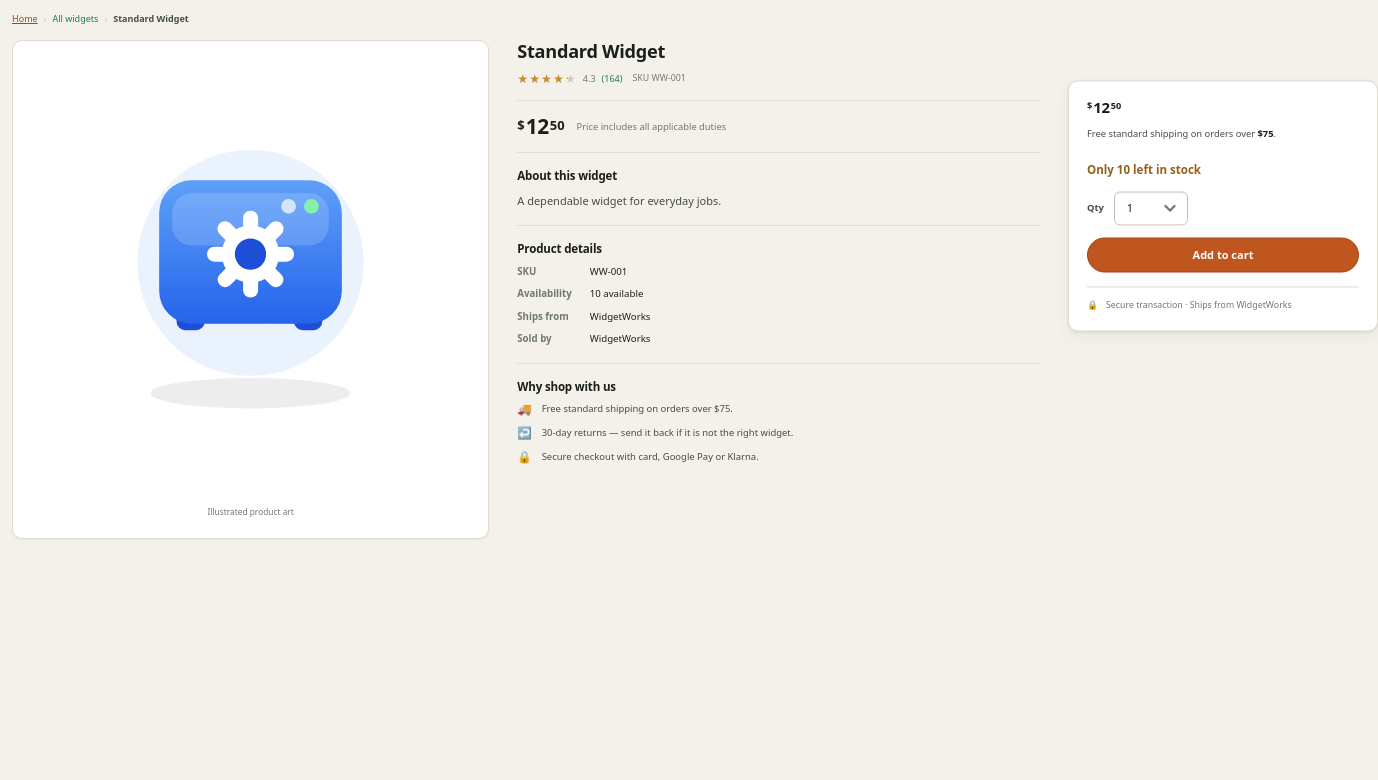
it: ProductPage › recalculates free shipping as the quantity changes
The width and height of the screenshot is (1378, 780).
Check: the heading "Standard Widget" is shown, box top-left (517, 38), bottom-right (665, 62)
Check: the text "Free standard shipping on orders over $75." is shown, box top-left (1087, 128), bottom-right (1276, 141)
Select "6" in the dropdown labelled "Qty" at (1151, 208), box top-left (1114, 191), bottom-right (1188, 226)
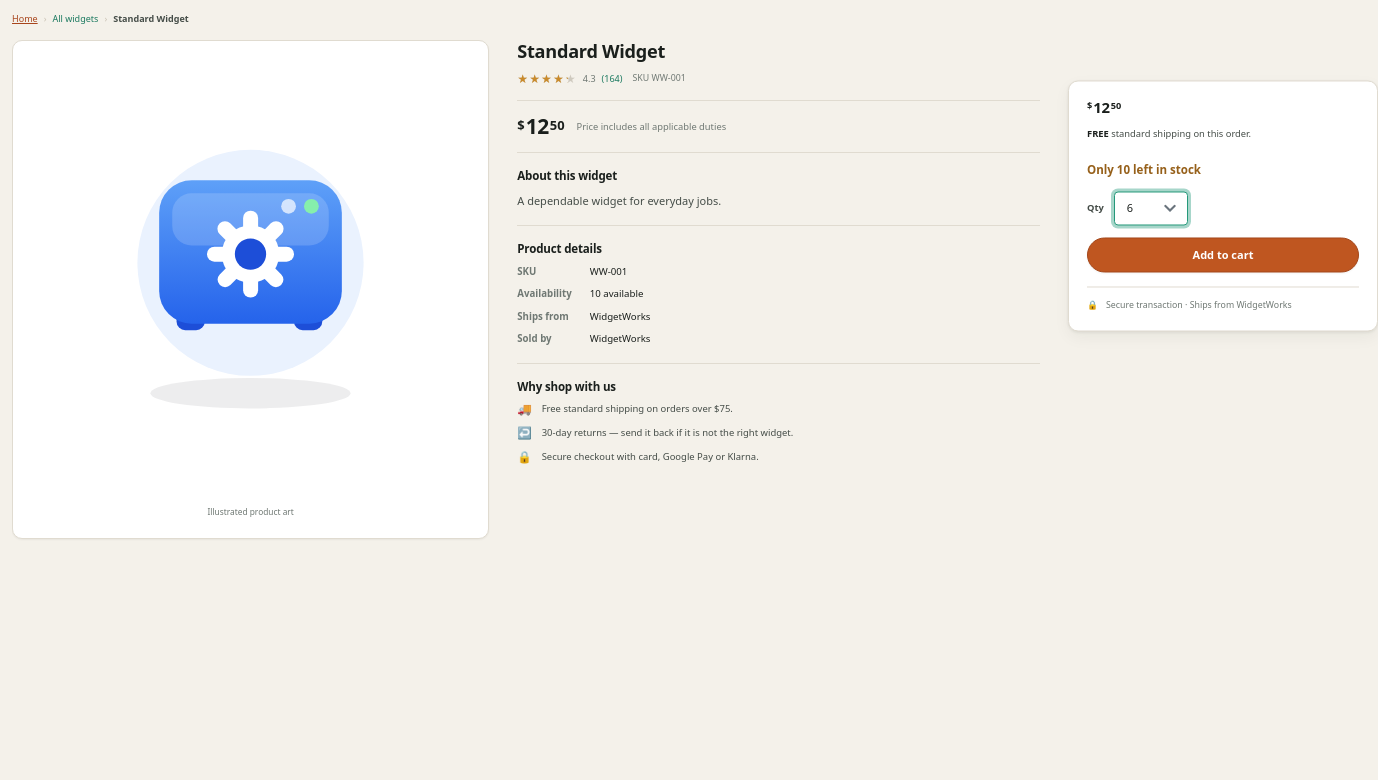
Check: the text "FREE standard shipping on this order." is shown, box top-left (1087, 128), bottom-right (1251, 141)
